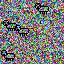sheep: (3, 20, 17, 31), (35, 3, 49, 14), (15, 25, 29, 35), (1, 51, 15, 61)
